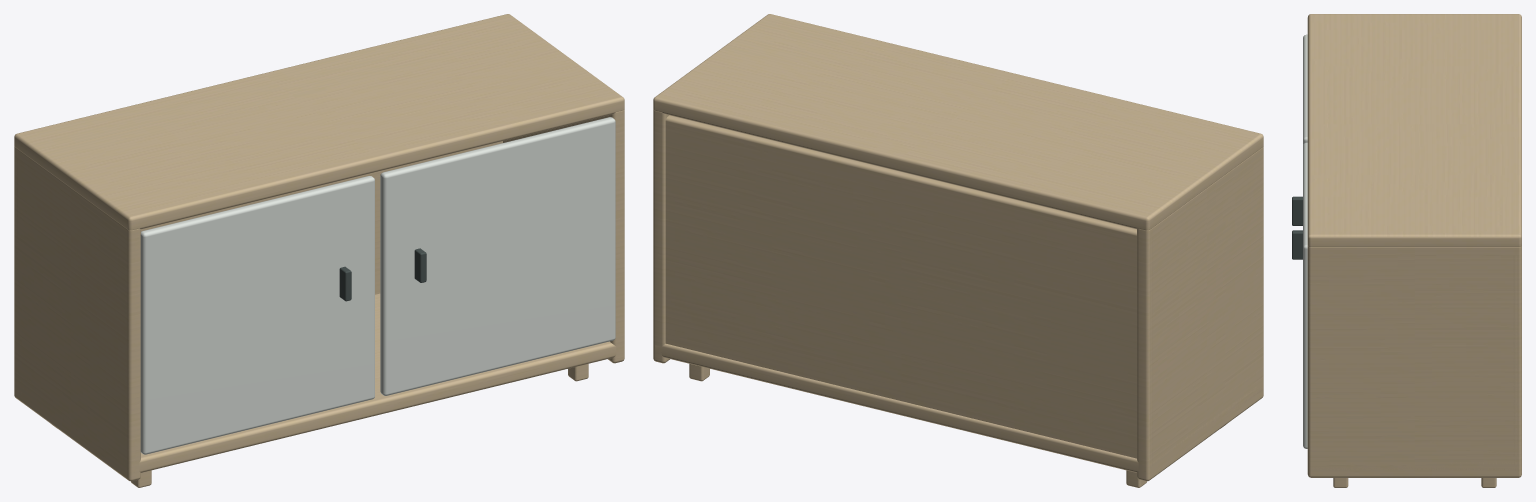
Rendered from credenza-v1.glb.
3 renders of one model, left to right at view 1: azimuth 30°, elevation 25°; view 2: azimuth 150°, elevation 25°; view 3: azimuth 270°, elevation 25°, orthographic. The views are drawn at different scales.
Parts seen in each view (by area): view 1: Timber foot; view 2: Timber foot; view 3: Timber foot.
Part boxes in pixels (<box>): Timber foot: <box>14,14,624,487</box>; Timber foot: <box>653,14,1263,487</box>; Timber foot: <box>1292,14,1521,487</box>.
Size of the model in its own units: 1.92 by 1.06 by 0.8375.
Materials: 3 (1 with a texture image).
